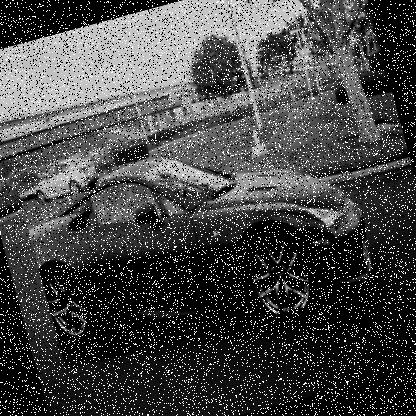Car: (19, 108, 382, 371), (29, 149, 100, 204)
